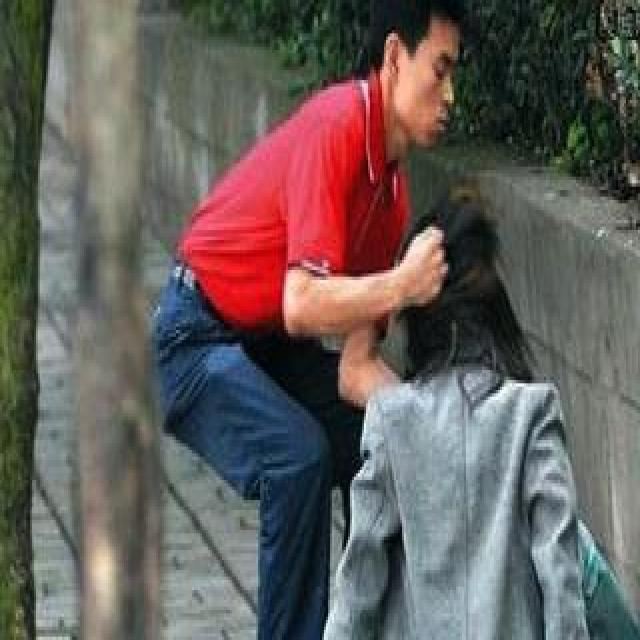fall: (346, 220, 594, 636)
